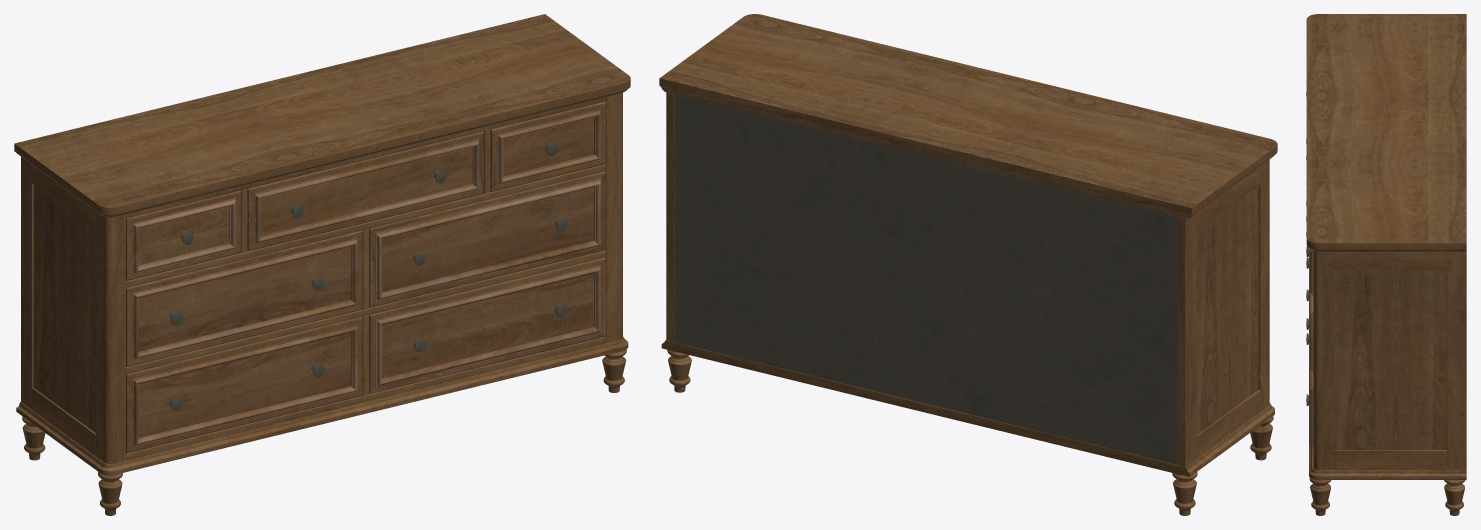
File: abo-B07B4SCM7N.glb
The picture shows the model from 3 angles, left to right: view 1: azimuth 30°, elevation 25°; view 2: azimuth 150°, elevation 25°; view 3: azimuth 270°, elevation 25°; orthographic projection. The views are drawn at different scales.
Size of the model in its own units: 1.58 by 0.892 by 0.468.
1 material, 1 textured.
